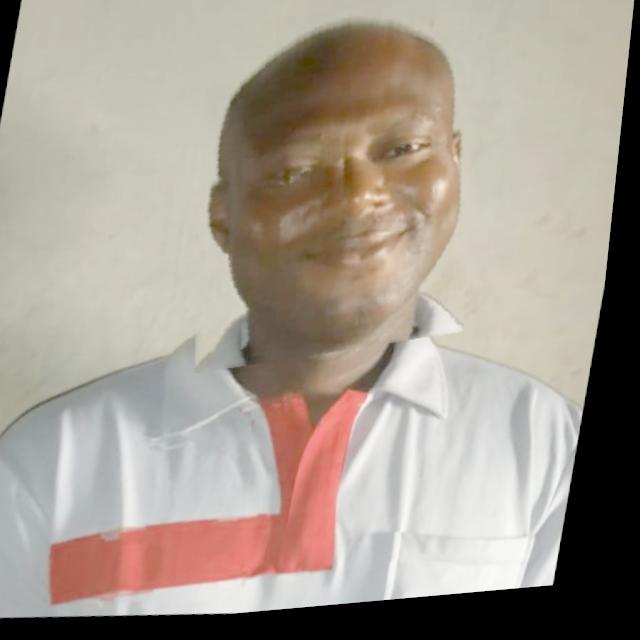happy: (166, 0, 512, 390)
